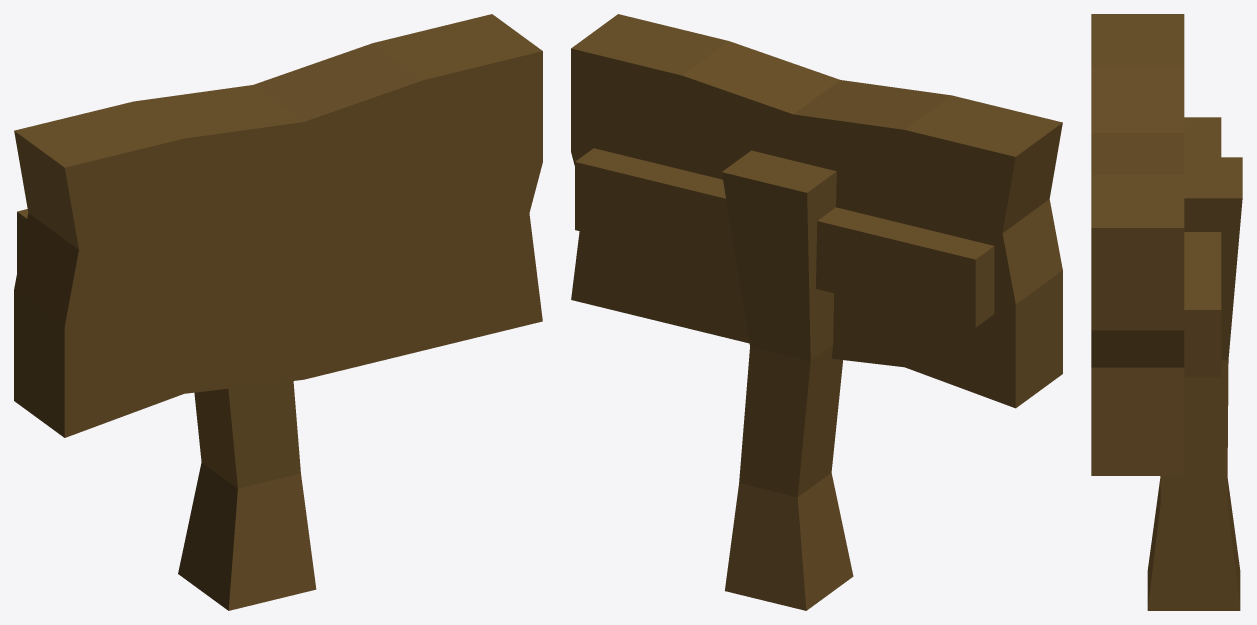
File: sign.fbx
3 views of the same model, side by side, from view 1: azimuth 30°, elevation 25°; view 2: azimuth 150°, elevation 25°; view 3: azimuth 270°, elevation 25° (orthographic). The views are drawn at different scales.
Parts seen in each view (by area): view 1: Cube.001, Cube; view 2: Cube.001, Cube; view 3: Cube.001, Cube.
Part boxes in pixels (left/top/right/bottom): Cube.001: left=14, top=14, right=542, bottom=437; Cube: left=17, top=209, right=316, bottom=610; Cube.001: left=571, top=14, right=1062, bottom=408; Cube: left=575, top=148, right=994, bottom=610; Cube.001: left=1091, top=14, right=1184, bottom=475; Cube: left=1147, top=117, right=1242, bottom=610.
Bounding box in the file's own units: 409 × 419 × 122.
